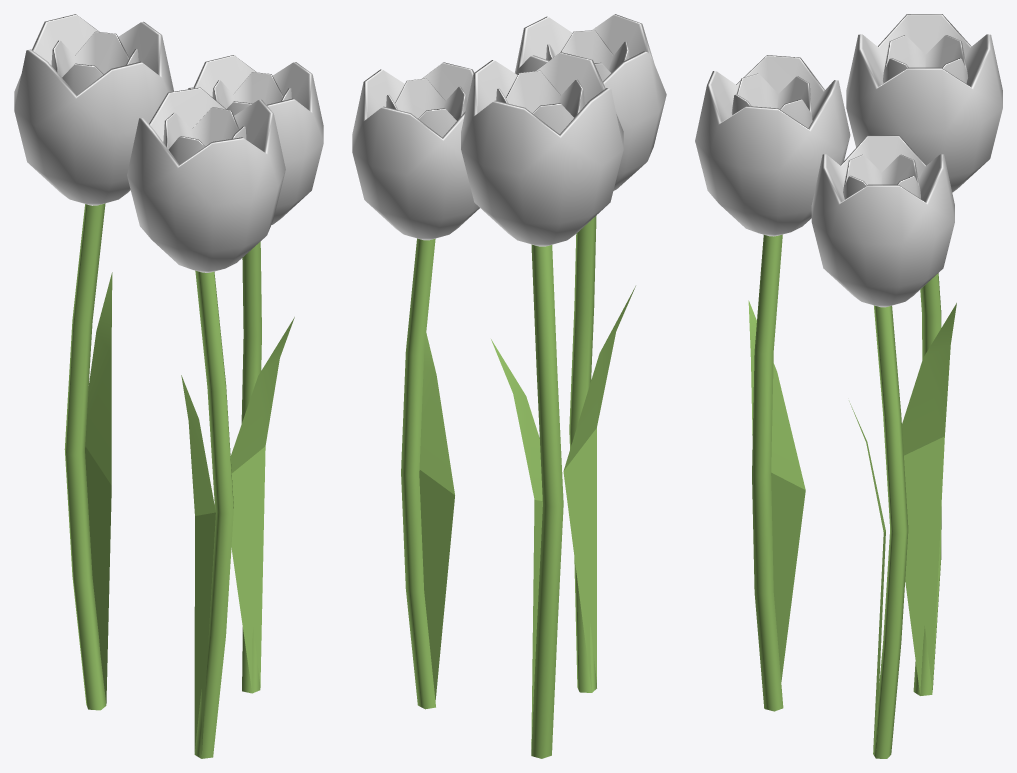
The model's file is flower02_white.fbx.
The picture shows the model from 3 angles, left to right: view 1: azimuth 30°, elevation 25°; view 2: azimuth 150°, elevation 25°; view 3: azimuth 270°, elevation 25°; orthographic projection. The views are drawn at different scales.
Parts seen in each view (by area): view 1: flowers02_white2; view 2: flowers02_white2; view 3: flowers02_white2.
Part boxes in pixels (x1,y1,x2,y2): flowers02_white2: [14, 14, 323, 758]; flowers02_white2: [352, 14, 666, 758]; flowers02_white2: [695, 14, 1002, 758].
Bounding box in the file's own units: 0.2452 × 0.5809 × 0.2494.
